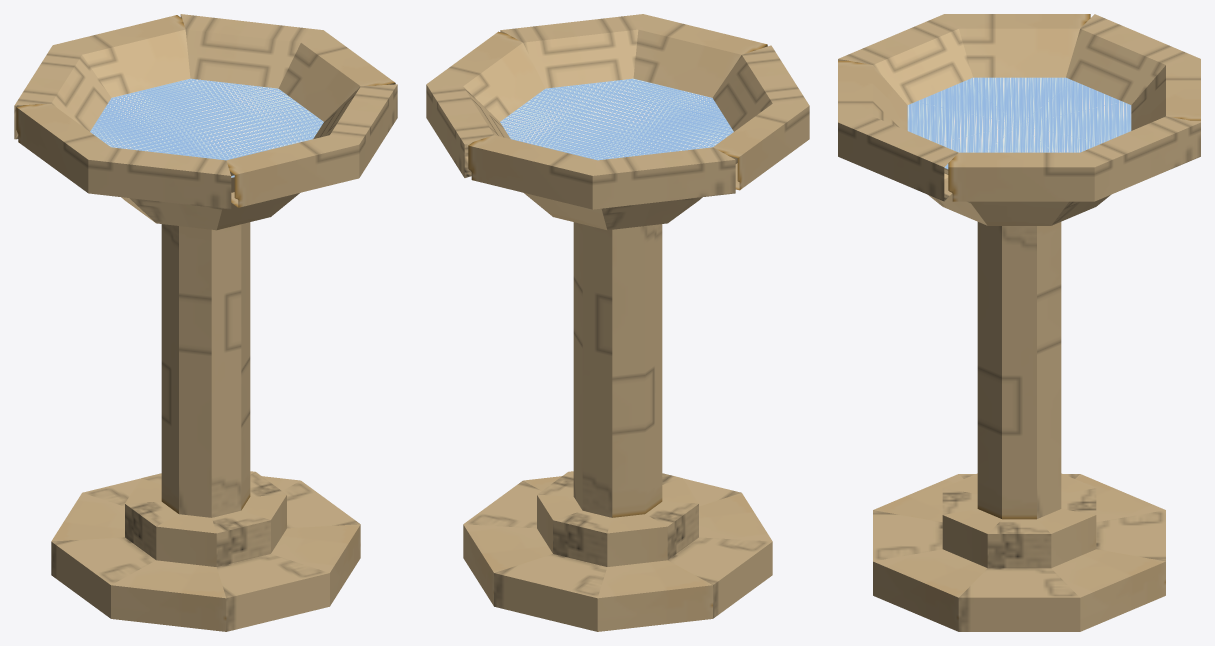
File: manaweaving_altar_2.obj
3 renders of one model, left to right at view 1: azimuth 30°, elevation 25°; view 2: azimuth 150°, elevation 25°; view 3: azimuth 270°, elevation 25°, orthographic.
Visible parts, largest first — view 1: MAIN_BODY_Cylinder, WATER_Plane.001; view 2: MAIN_BODY_Cylinder, WATER_Plane.001; view 3: MAIN_BODY_Cylinder, WATER_Plane.001.
Boxes of the visible parts, x1,y1,x2,y2 form: MAIN_BODY_Cylinder: (14, 14, 397, 631); WATER_Plane.001: (90, 78, 323, 177); MAIN_BODY_Cylinder: (426, 14, 809, 631); WATER_Plane.001: (500, 78, 733, 160); MAIN_BODY_Cylinder: (838, 14, 1200, 631); WATER_Plane.001: (907, 77, 1131, 168).
Bounding box in the file's own units: 0.6005 × 0.875 × 0.6005.
